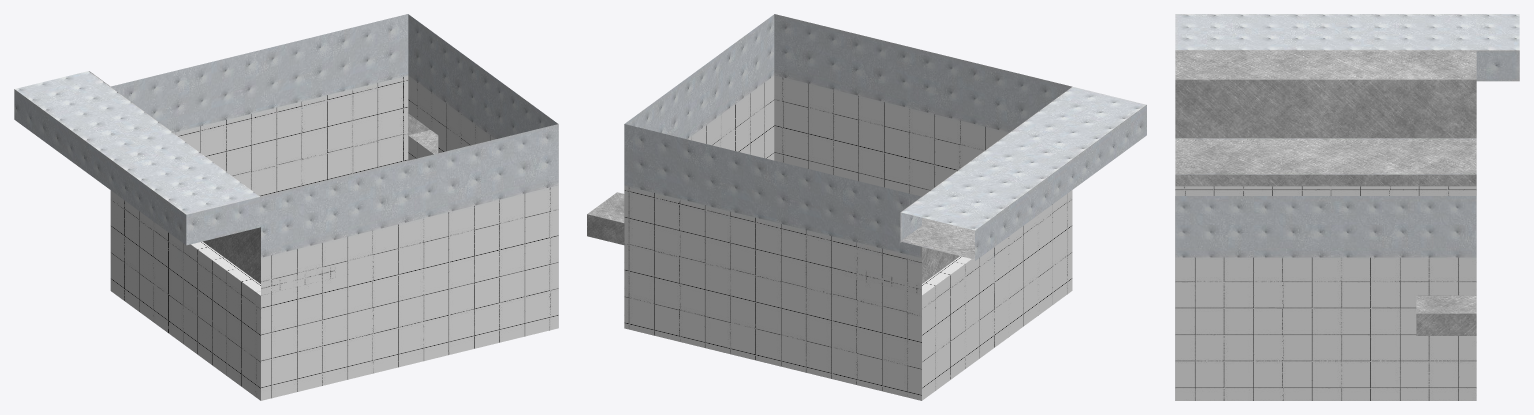
File: room3.fbx
3 renders of one model, left to right at view 1: azimuth 30°, elevation 25°; view 2: azimuth 150°, elevation 25°; view 3: azimuth 270°, elevation 25°, orthographic.
Visible parts, largest first — view 1: Room3; view 2: Room3; view 3: Room3.
Boxes of the visible parts, x1=… form: Room3: x1=14, y1=14, x2=558, y2=400; Room3: x1=587, y1=14, x2=1146, y2=400; Room3: x1=1175, y1=14, x2=1519, y2=400.
Bounding box in the file's own units: 1101 × 525 × 800.
1 material, 1 textured.
